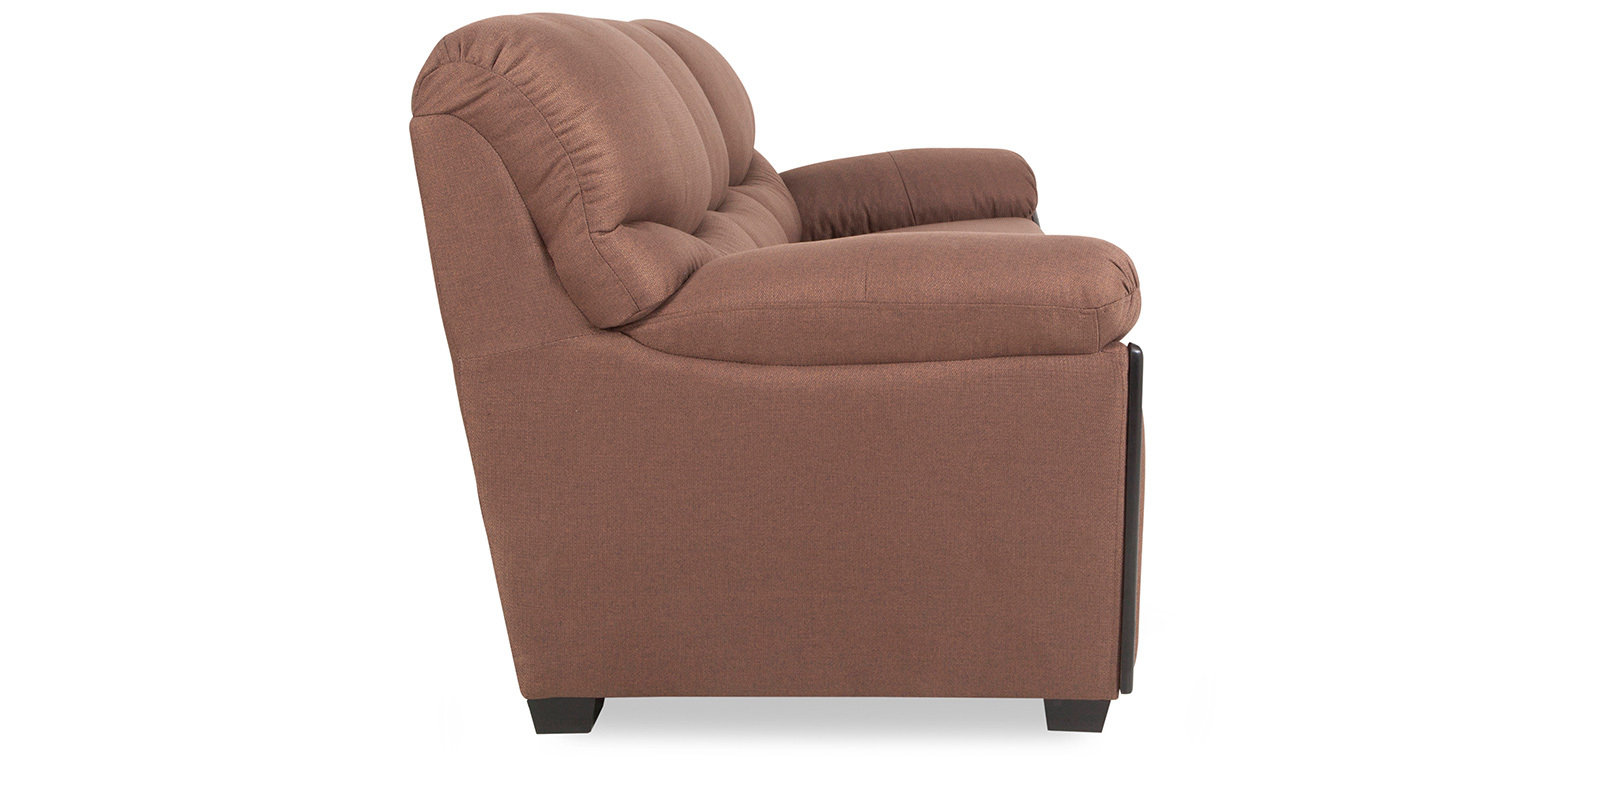Memphis Monarch Three Seater Sofa in Dark Brown Colour by Urban Living: (407, 13, 1146, 734)
